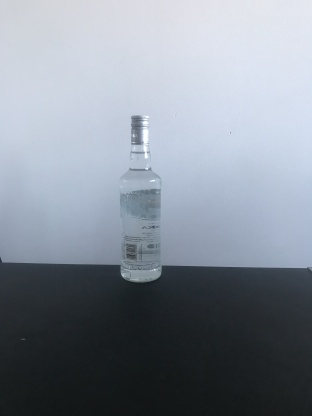nakretka: (129, 112, 151, 149)
